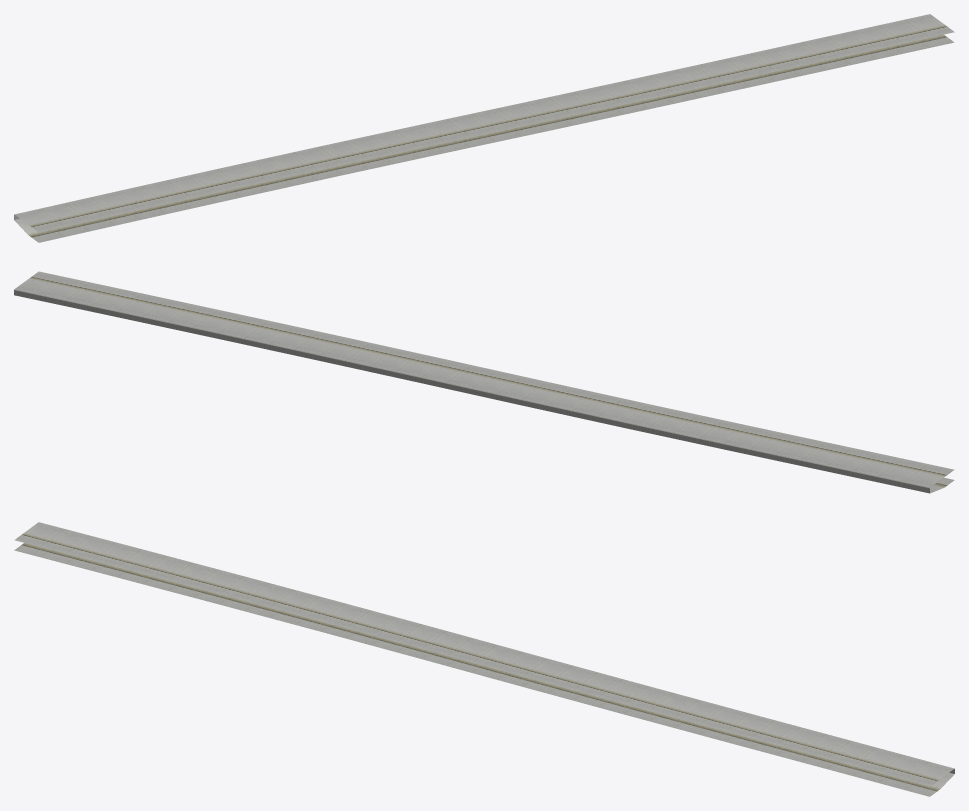
Rendered from _1WALL_07_SUB0_Scene.271.obj.
3 views of the same model, one above another, from view 1: azimuth 30°, elevation 25°; view 2: azimuth 150°, elevation 25°; view 3: azimuth 330°, elevation 25° (orthographic).
Visible parts, largest first — view 1: _1WALL_07_SUB0_Scene.271; view 2: _1WALL_07_SUB0_Scene.271; view 3: _1WALL_07_SUB0_Scene.271.
Part boxes in pixels (x1,y1,x2,y2): _1WALL_07_SUB0_Scene.271: (14,14,954,242); _1WALL_07_SUB0_Scene.271: (14,271,954,493); _1WALL_07_SUB0_Scene.271: (14,522,954,796).
Bounding box in the file's own units: 36.13 × 1.3 × 1.79.
